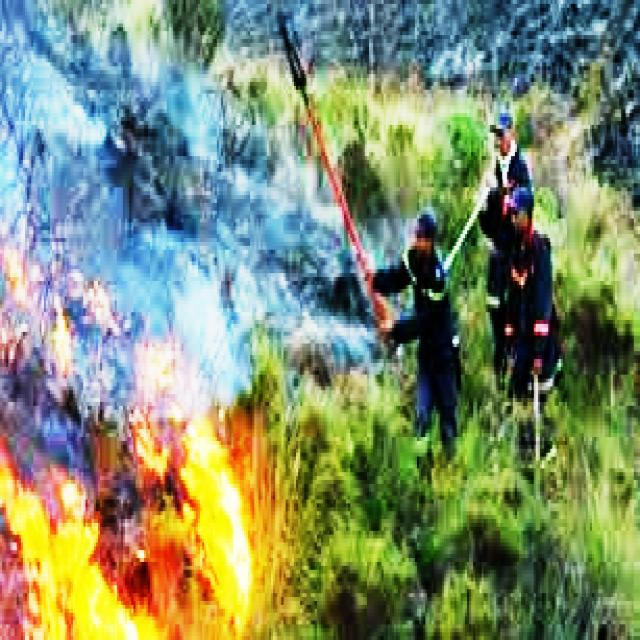api: (185, 421, 257, 640), (3, 456, 51, 640), (60, 501, 99, 640), (105, 589, 151, 640), (134, 416, 169, 481), (142, 343, 171, 392), (59, 310, 73, 376)
asap: (5, 14, 92, 240), (181, 234, 267, 401), (148, 66, 227, 208), (109, 199, 170, 338), (286, 267, 353, 376), (254, 132, 312, 238)
